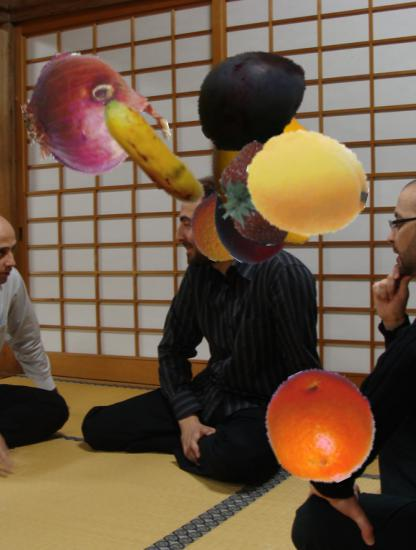Banana: (82, 83, 221, 222)
Chestnut: (204, 159, 308, 263)
Lemon: (197, 105, 344, 252)
Mandarine: (189, 186, 267, 264)
Onion: (24, 41, 162, 179)
Peach: (245, 121, 370, 246)
Plum: (192, 39, 311, 158)
Strawberry: (204, 140, 311, 247)
Tangelo: (263, 367, 381, 485)
